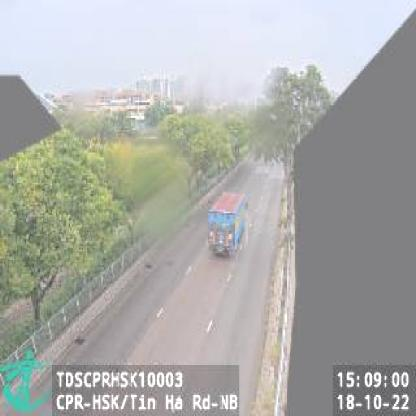Truck: (207, 193, 249, 257)
